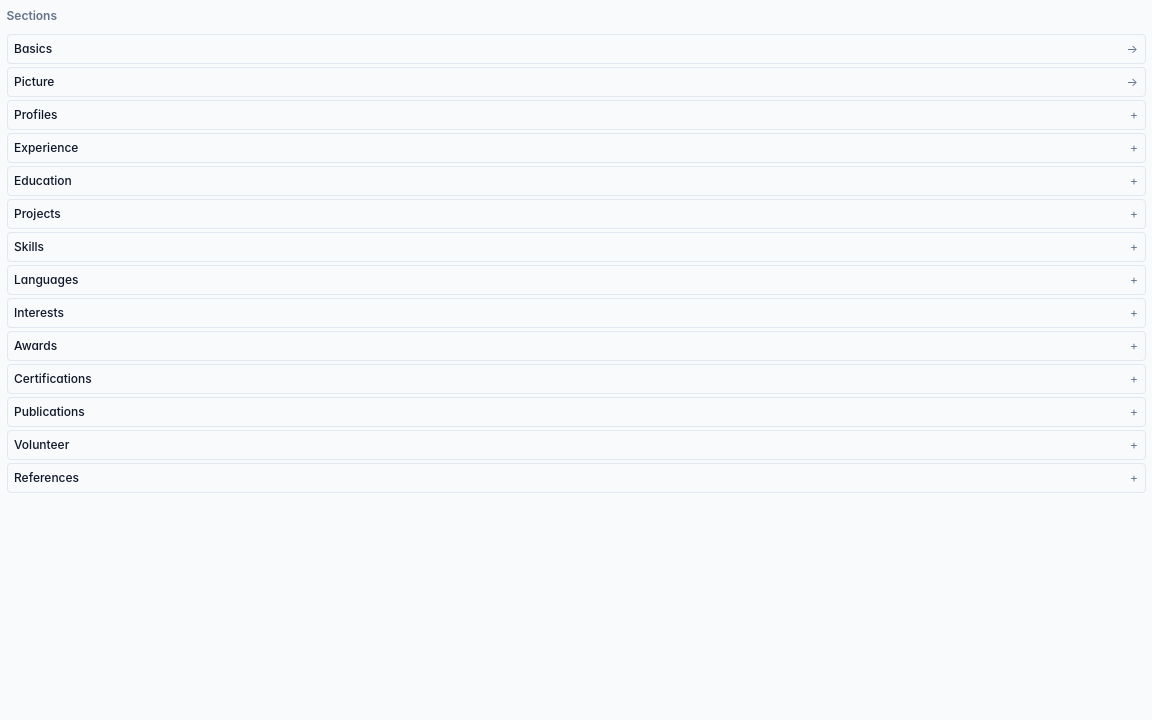
SectionsPanel mounts education/projects/skills lists (US3 AC-01) › education row exposes SectionList when expanded
Click the button "Education +".
click(43, 181)  # box [8,167,1144,195]
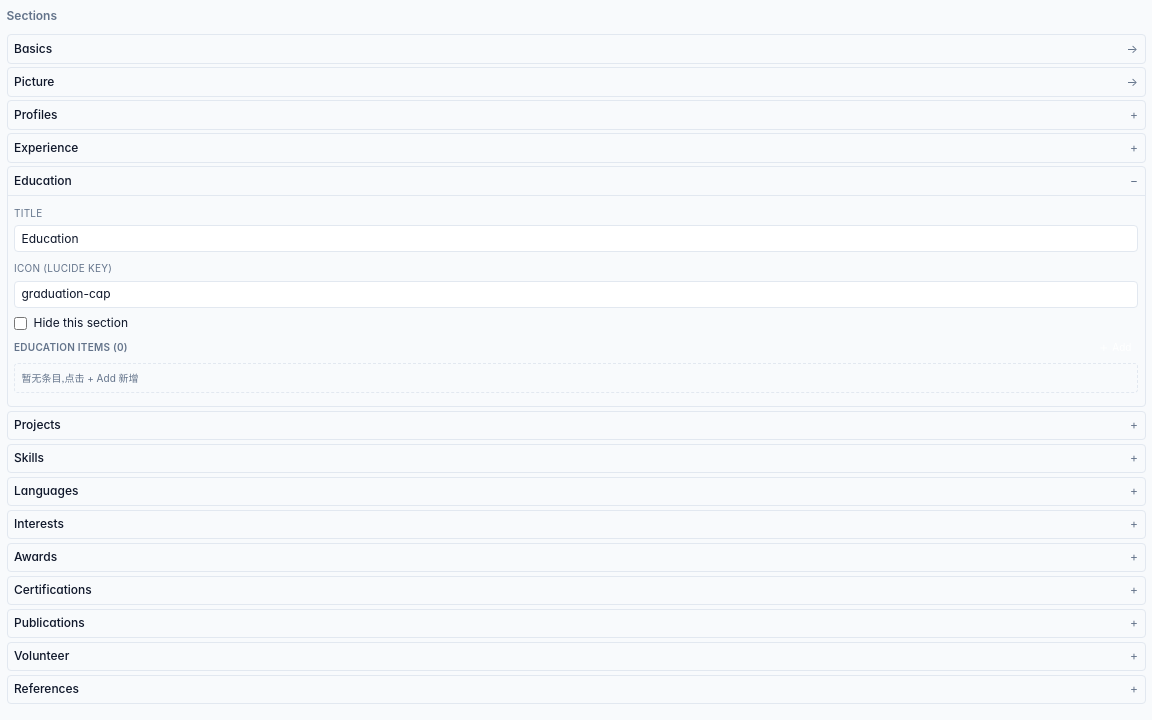
Check: the element with test id "education-section-list" is shown, box [14,338,1138,393]
